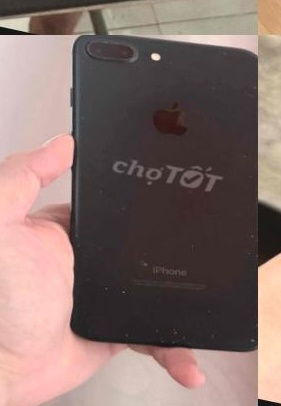scratch: (220, 224, 258, 349), (64, 227, 159, 275), (117, 314, 216, 358), (77, 183, 133, 232), (78, 35, 148, 68), (235, 148, 258, 183), (94, 278, 129, 299), (157, 43, 182, 65), (180, 233, 201, 252), (69, 104, 90, 122), (198, 302, 212, 313), (246, 81, 258, 93), (217, 48, 229, 58), (130, 77, 142, 87)
